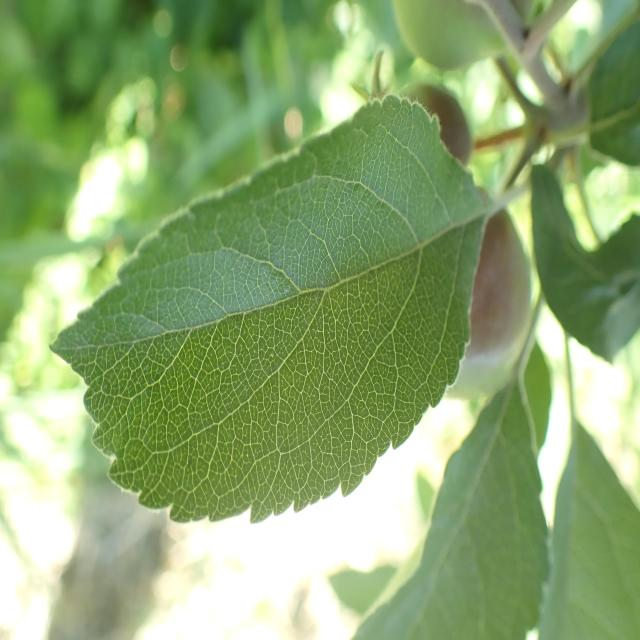healthy: (49, 93, 489, 527), (349, 334, 555, 640), (529, 159, 640, 365)
